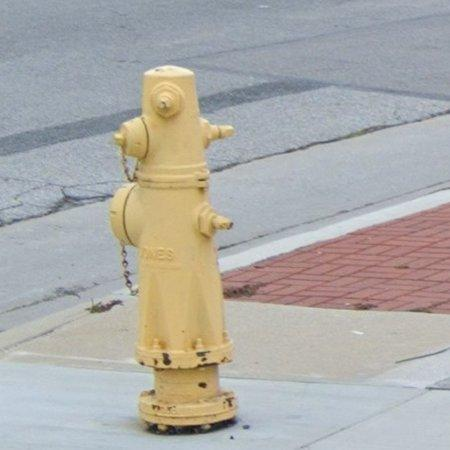a fire hydrant: (110, 66, 237, 432)
